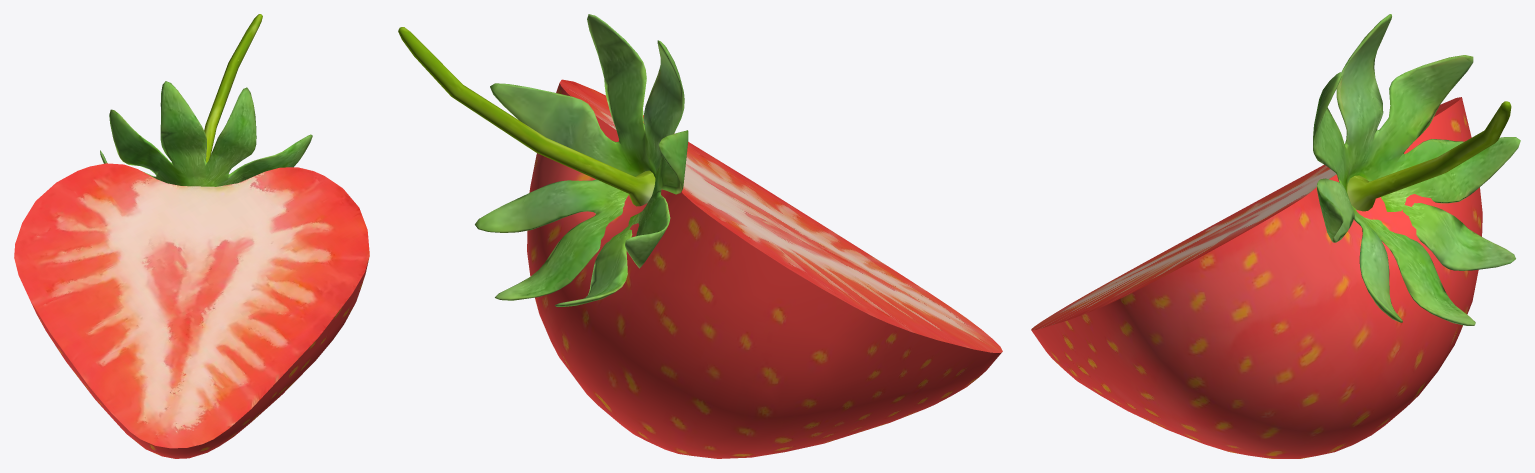
File: candle_strawberry_half_v3.glb
The picture shows the model from 3 angles, left to right: view 1: azimuth 30°, elevation 25°; view 2: azimuth 150°, elevation 25°; view 3: azimuth 270°, elevation 25°; orthographic projection. The views are drawn at different scales.
Visible parts, largest first — view 1: strawberry cut.023, strawberry.088; view 2: strawberry cut.023, strawberry.088; view 3: strawberry cut.023, strawberry.088.
Part boxes in pixels (bbox=[...]): strawberry cut.023: bbox=[14, 163, 369, 458]; strawberry.088: bbox=[100, 14, 312, 186]; strawberry cut.023: bbox=[527, 79, 1002, 458]; strawberry.088: bbox=[398, 14, 688, 306]; strawberry cut.023: bbox=[1031, 97, 1482, 458]; strawberry.088: bbox=[1313, 14, 1520, 325].
Bounding box in the file's own units: 0.316 × 0.3104 × 0.3159.
Materials: 2 (2 with a texture image).
